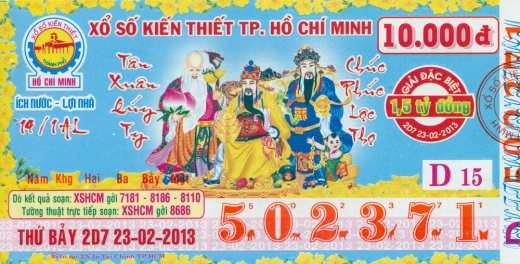serial_zone: (212, 198, 500, 249)
